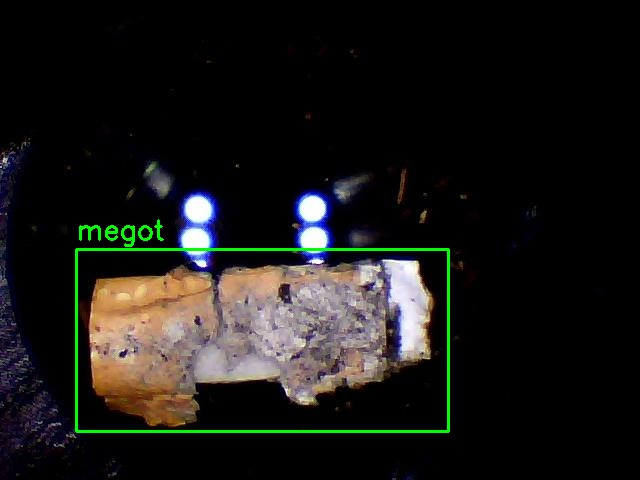megot: (76, 249, 448, 431)
